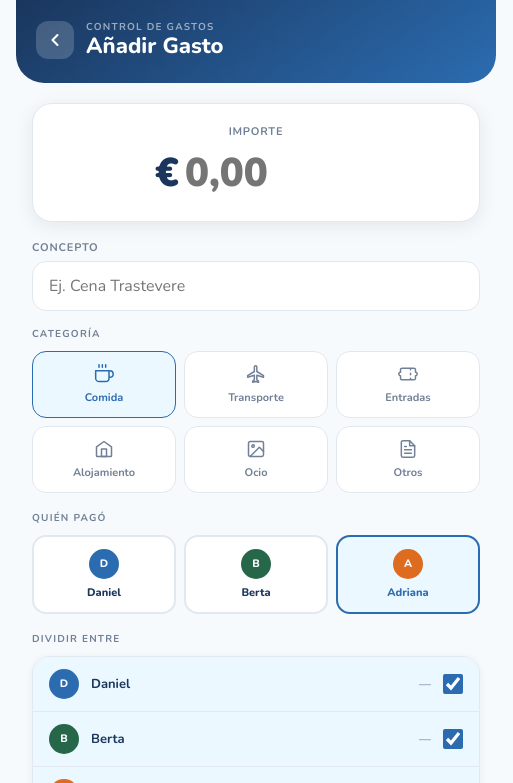
Test: AnadirGasto › no envía el gasto con tres decimales y explica el motivo
Expected: the element named "Quién pagó" is shown, [32,535,480,614]
Step 1. Type "10,123" into the field labelled "Importe" → (270, 173), box [183,145,357,201]
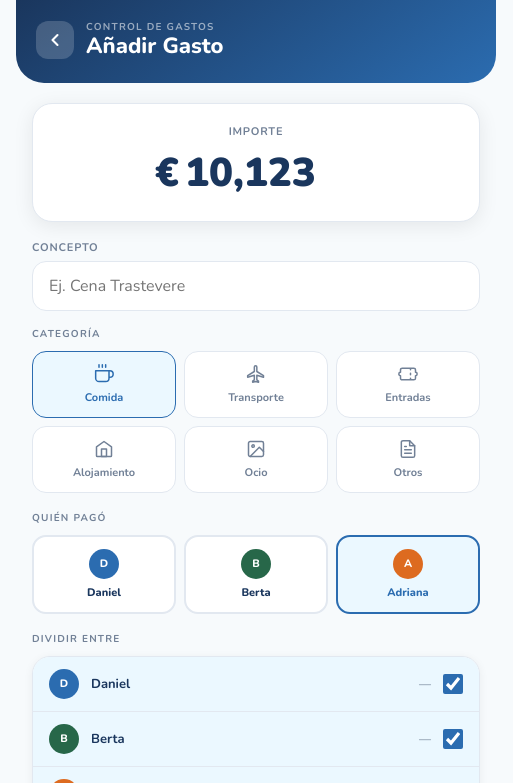
Step 2. Type "Cena" into the field labelled "Concepto" → (256, 286), box [32,261,480,311]
(page scrolled)
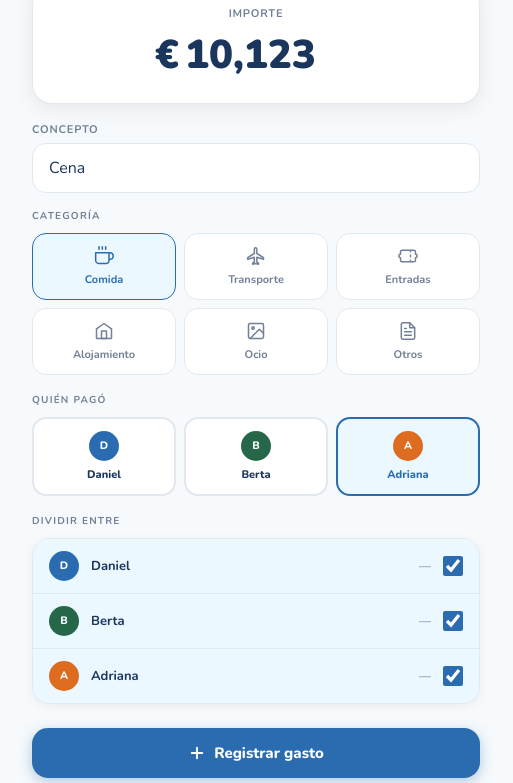
Step 3. Click the button "Registrar gasto" → (256, 753), box [32,728,480,778]
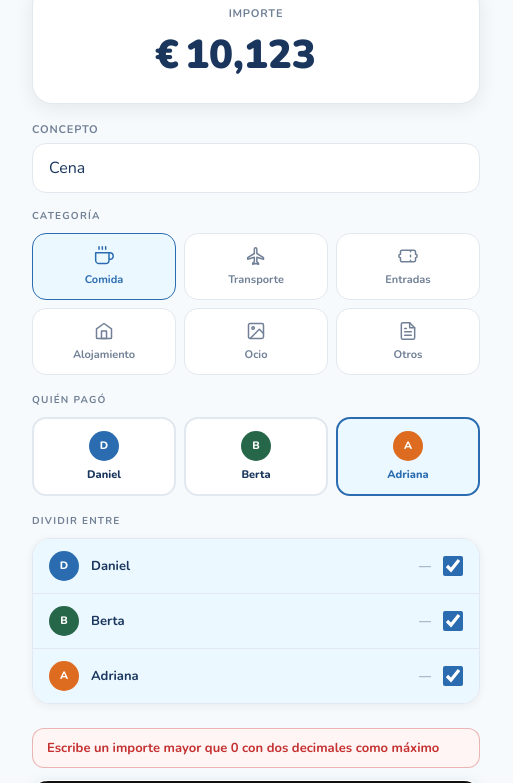
Expected: the message reads "Escribe un importe mayor que 0 con dos decimales como máximo", [47,739,439,757]
